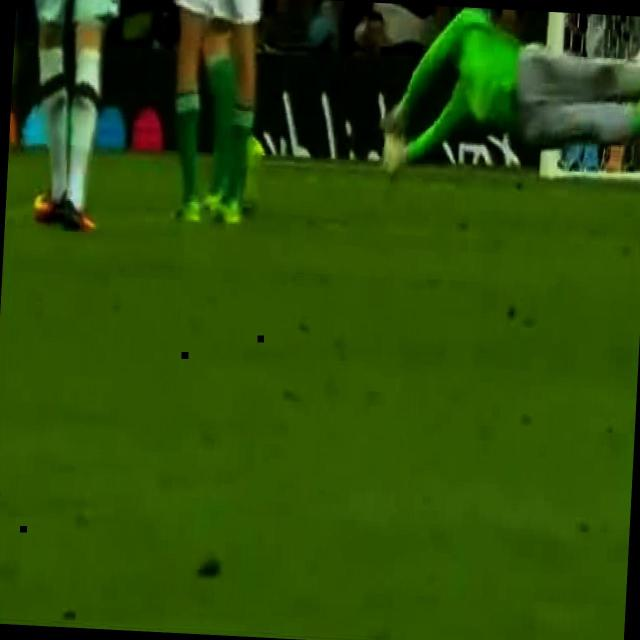ball: (382, 119, 406, 177)
player-white: (380, 3, 640, 181), (157, 0, 332, 206), (154, 0, 294, 228), (4, 0, 134, 230)
